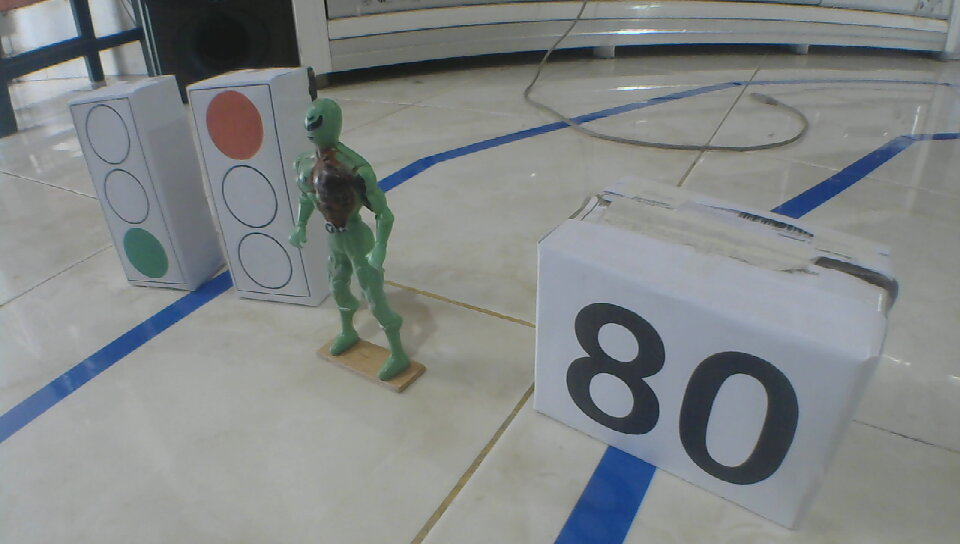Green Light: (83, 103, 172, 281)
Person: (293, 98, 414, 380)
Red Light: (203, 88, 293, 293)
Speed 80: (564, 300, 801, 487)
